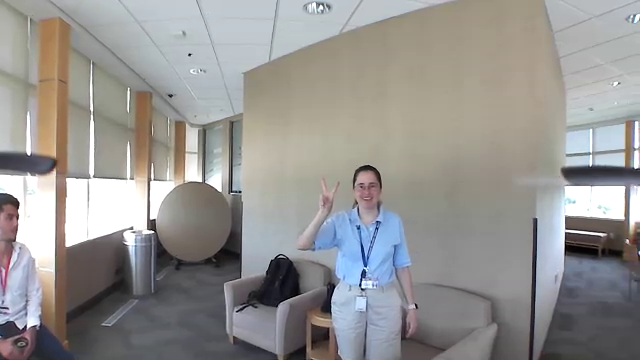peace: (313, 175, 346, 218)
